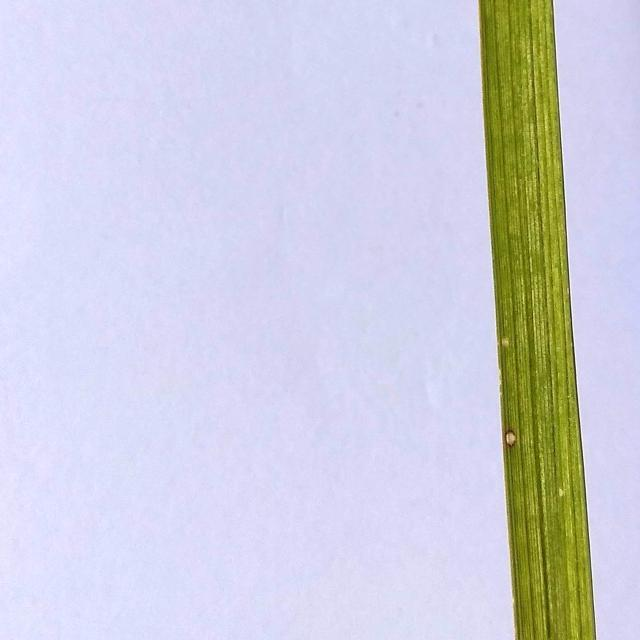Blast: (504, 426, 524, 446), (500, 336, 520, 350)
